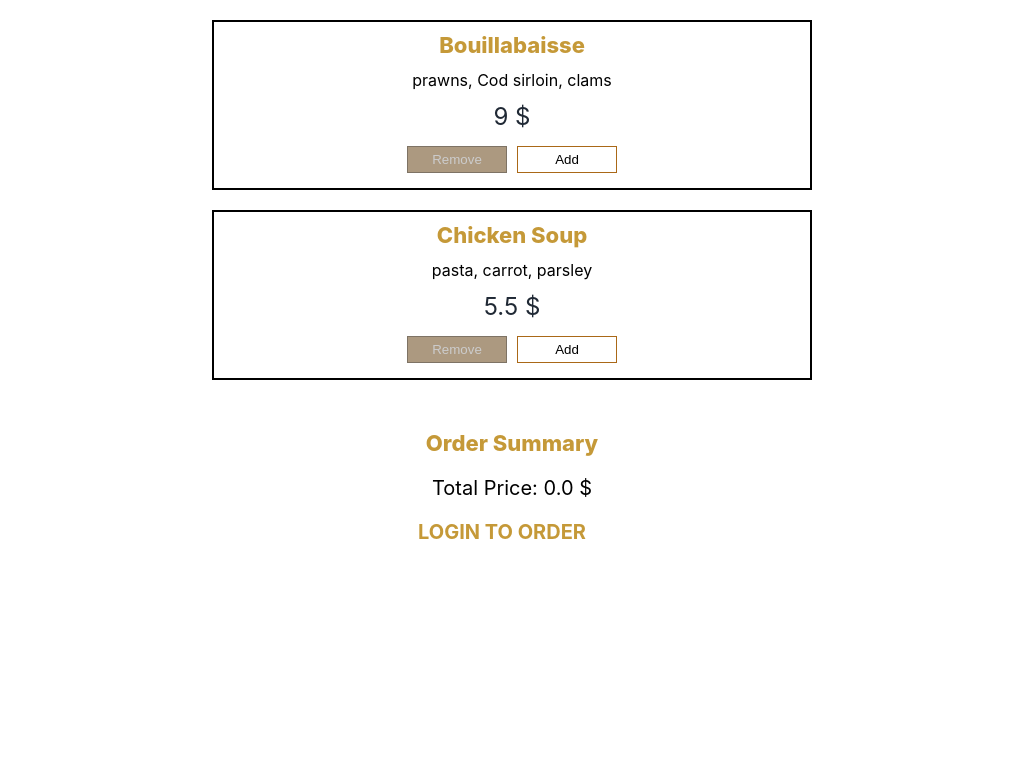
Test case: should render a row in meal summary after adding a meal
Expected: the text "Bouillabaisse" is shown, top-left (439, 32), bottom-right (585, 58)
Click the button "Add" below "prawns, Cod sirloin, clams" at (567, 160), box top-left (517, 146), bottom-right (617, 173)
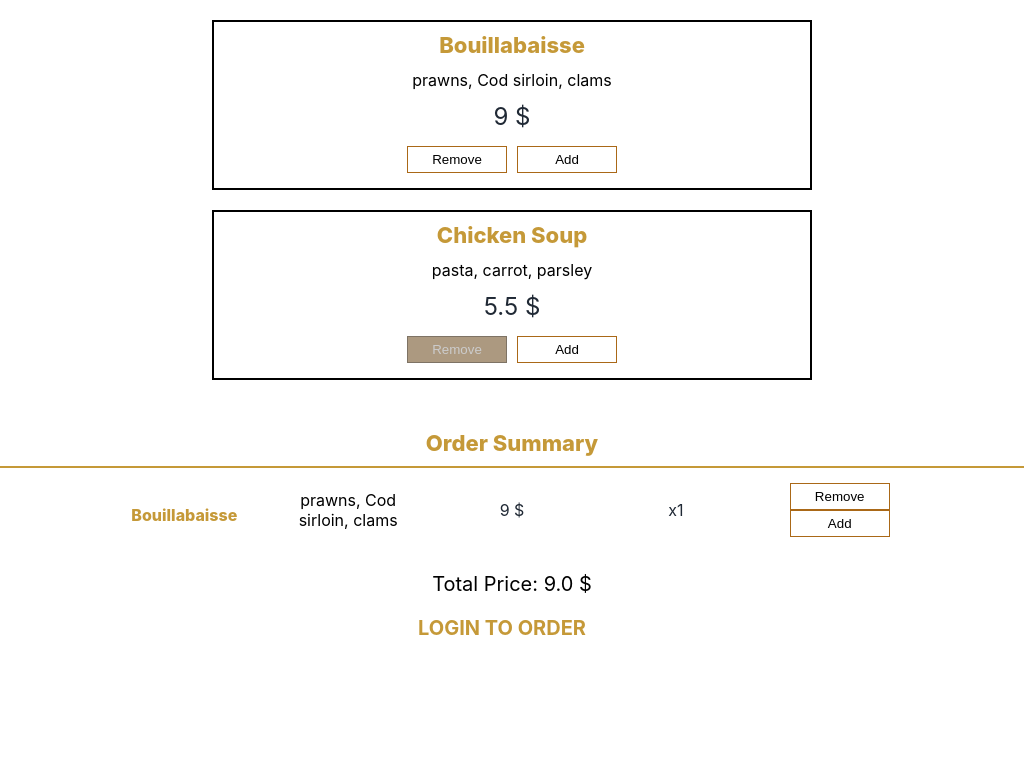
Result: the element with test id "summary-meal" is shown at top-left (0, 466), bottom-right (1023, 552)
